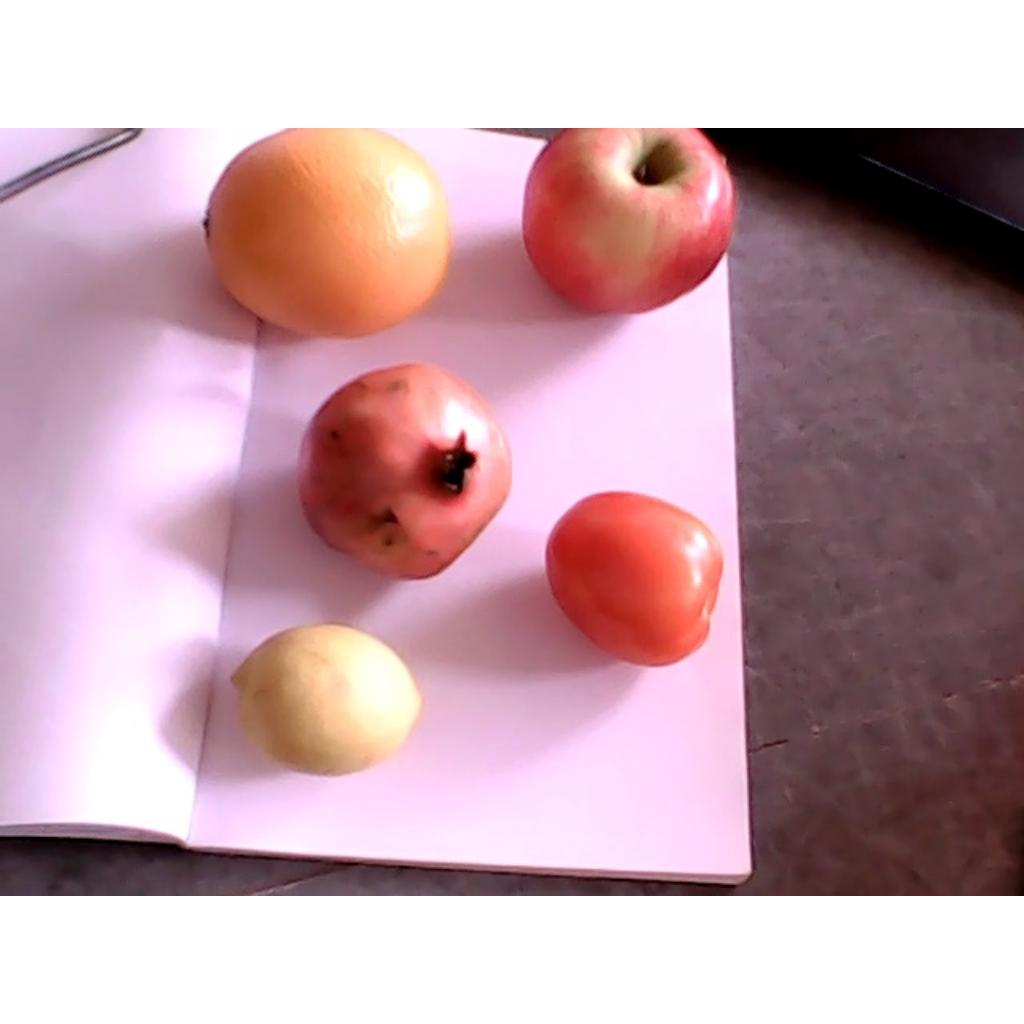apple: (522, 128, 737, 313)
lemon: (229, 625, 423, 772)
orange: (205, 128, 452, 339)
pomegranate: (297, 364, 515, 579)
tomato: (548, 493, 722, 664)
